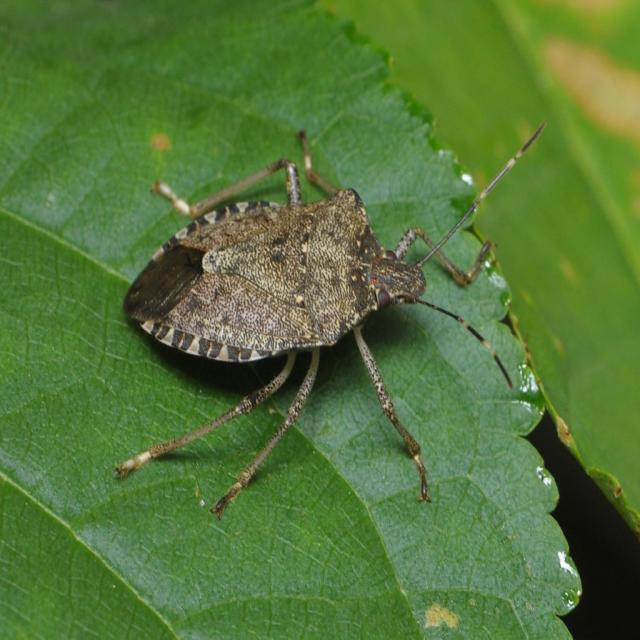stink_bug: (107, 112, 546, 524)
